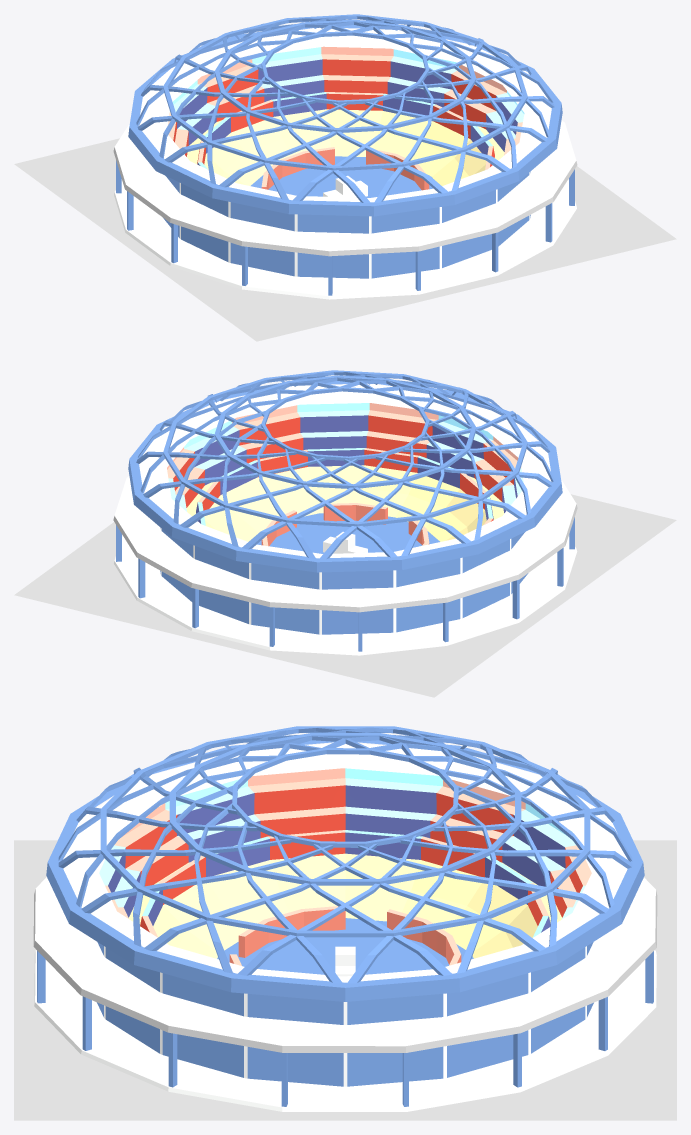
Rendered from stadiums.001.glb.
3 renders of one model, top to bottom at view 1: azimuth 30°, elevation 25°; view 2: azimuth 150°, elevation 25°; view 3: azimuth 270°, elevation 25°, orthographic. The views are drawn at different scales.
Visible parts, largest first — view 1: stadiums.001(Clone); view 2: stadiums.001(Clone); view 3: stadiums.001(Clone).
Boxes of the visible parts, x1,y1,x2,y2 form: stadiums.001(Clone): (14,14,676,341); stadiums.001(Clone): (14,370,676,697); stadiums.001(Clone): (14,726,676,1120).
Bounding box in the file's own units: 16 × 4.98 × 16.
1 material, 1 textured.
